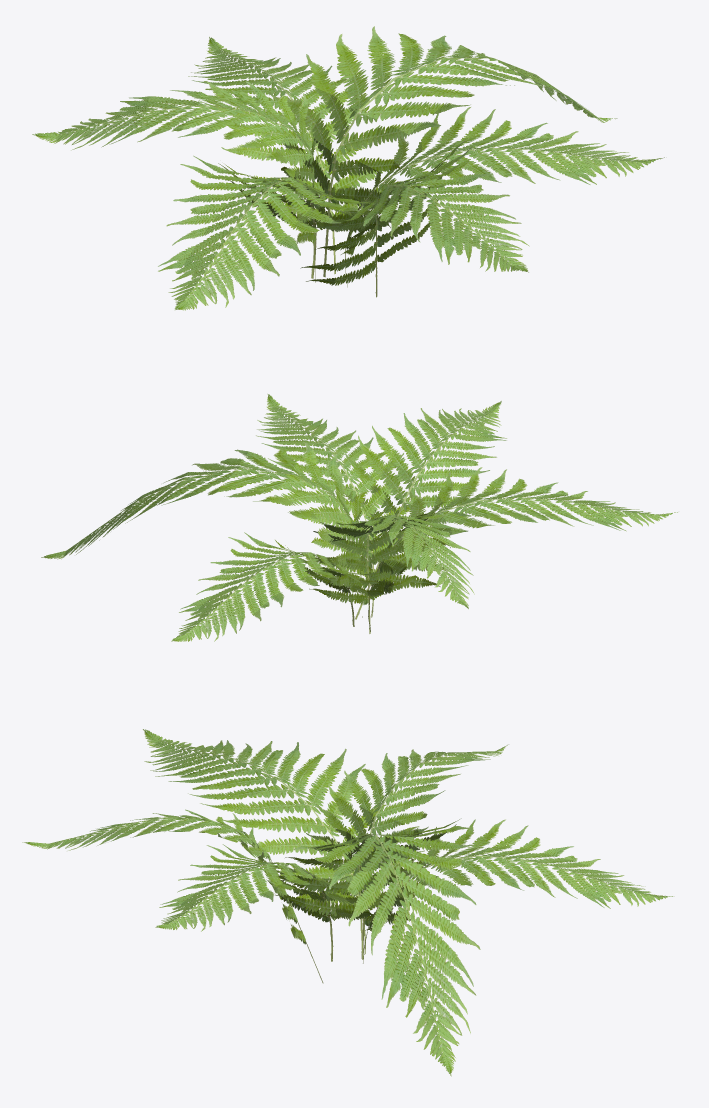
Rendered from fern plant.fbx.
3 renders of one model, top to bottom at view 1: azimuth 30°, elevation 25°; view 2: azimuth 150°, elevation 25°; view 3: azimuth 270°, elevation 25°, orthographic. The views are drawn at different scales.
Visible parts, largest first — view 1: vegetation_fern_08.001; view 2: vegetation_fern_08.001; view 3: vegetation_fern_08.001.
Boxes of the visible parts, box(x1,y1,x2,y2) form: vegetation_fern_08.001: box(32, 26, 664, 310); vegetation_fern_08.001: box(41, 394, 677, 641); vegetation_fern_08.001: box(22, 729, 674, 1076).
Bounding box in the file's own units: 159 × 44.94 × 149.
